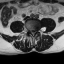CCS_normal: (32, 30, 34, 37)
LFS_severe_stenosis: (35, 29, 37, 34)
LLS_severe_stenosis: (34, 30, 35, 35)
RFS_severe_stenosis: (28, 28, 30, 33)
RLS_stenosis: (30, 29, 32, 34)
